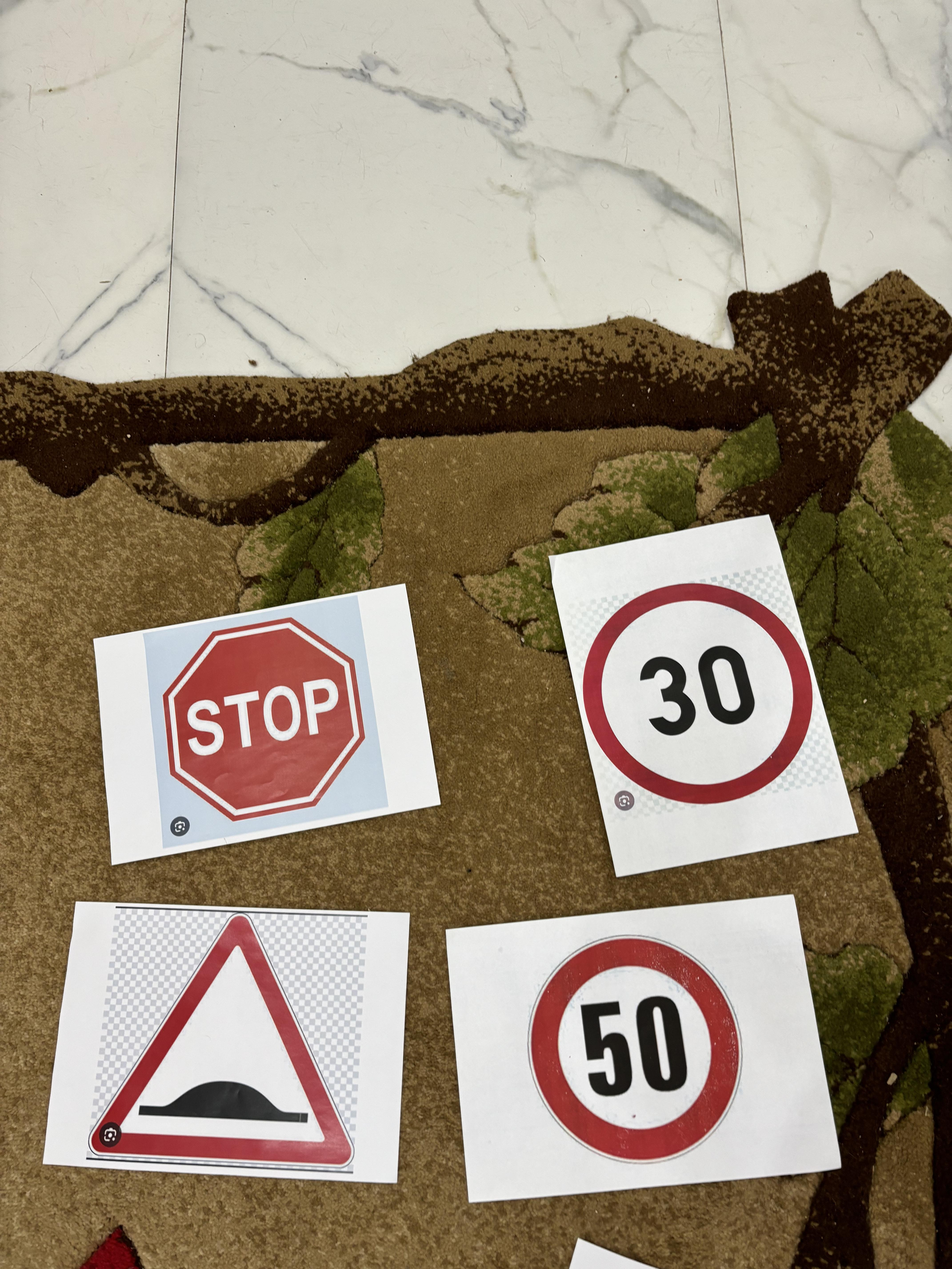30-speed: (585, 576, 817, 805)
50-Speed: (523, 927, 749, 1164)
Hump: (89, 909, 356, 1183)
Stop: (145, 611, 378, 821)
